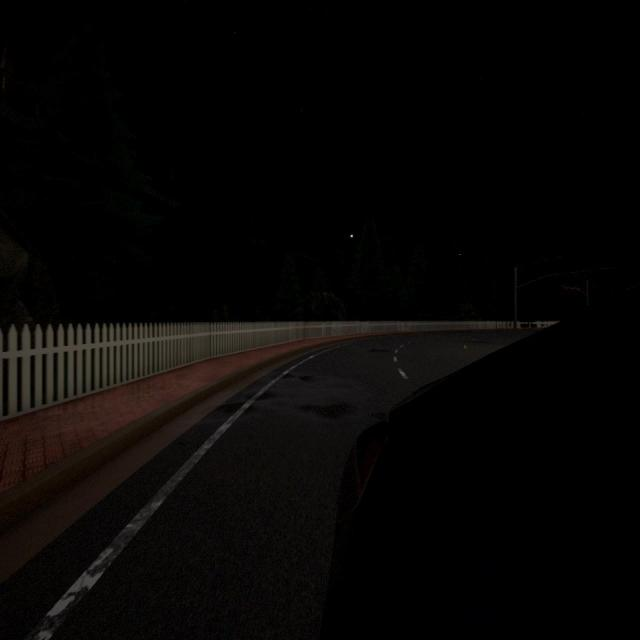Vehicle: (320, 296, 640, 638)
